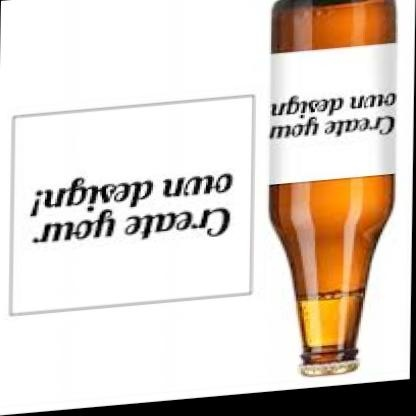trash: (270, 0, 395, 375)
